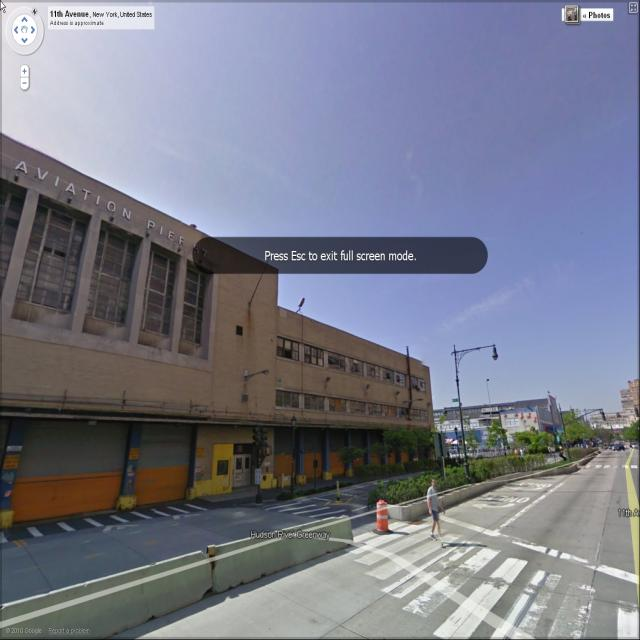b_1: (1, 140, 447, 454), (421, 387, 580, 472), (590, 408, 640, 441), (622, 381, 640, 406)
